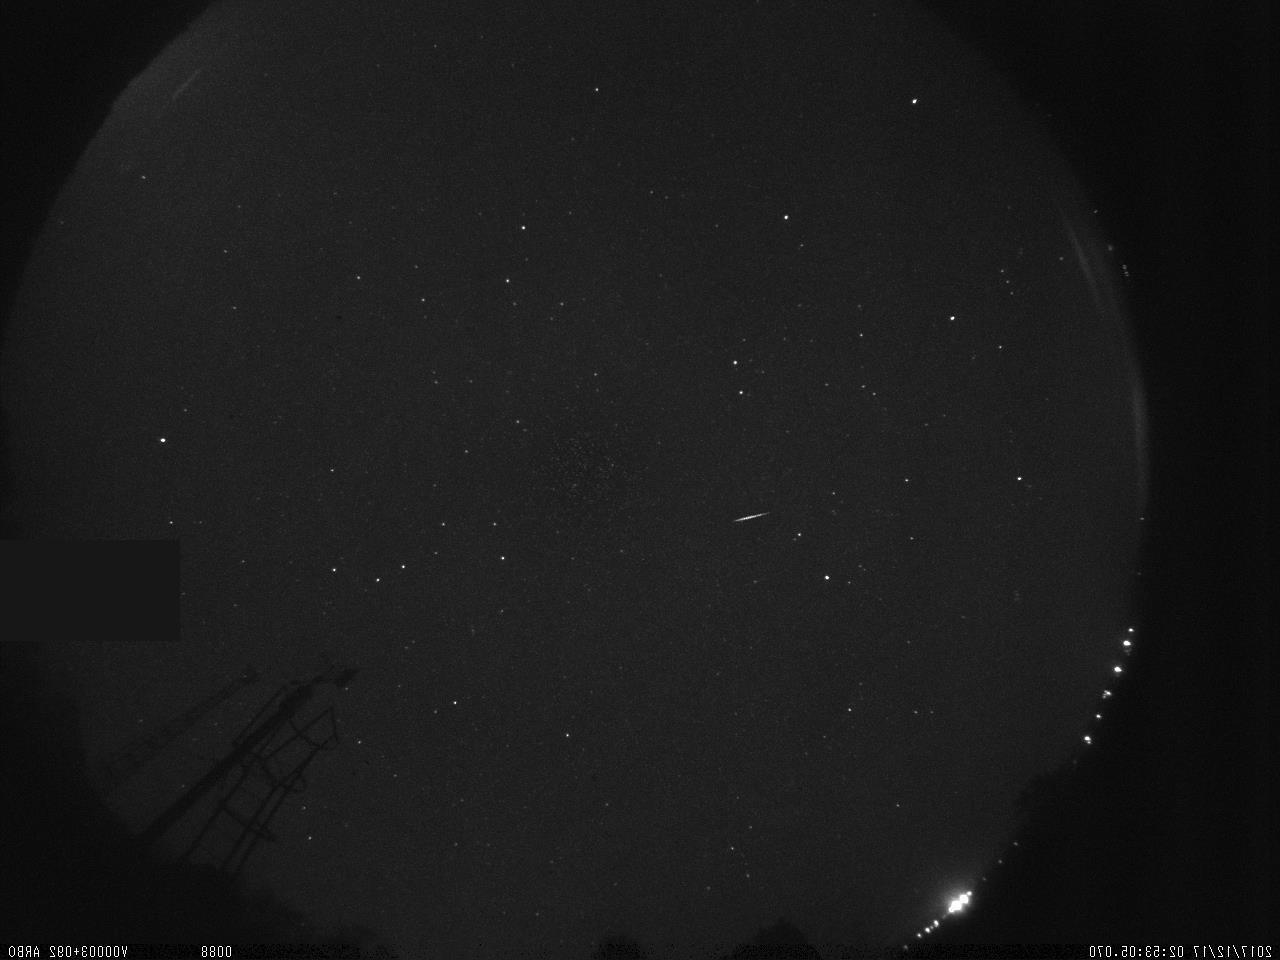meteor: (723, 501, 782, 536)
